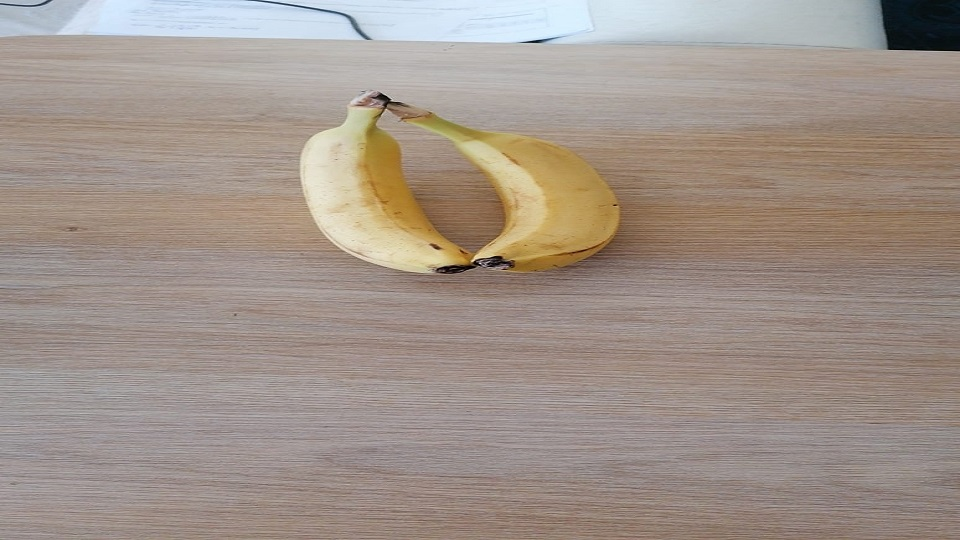muz: (298, 90, 479, 275), (470, 102, 622, 271)
